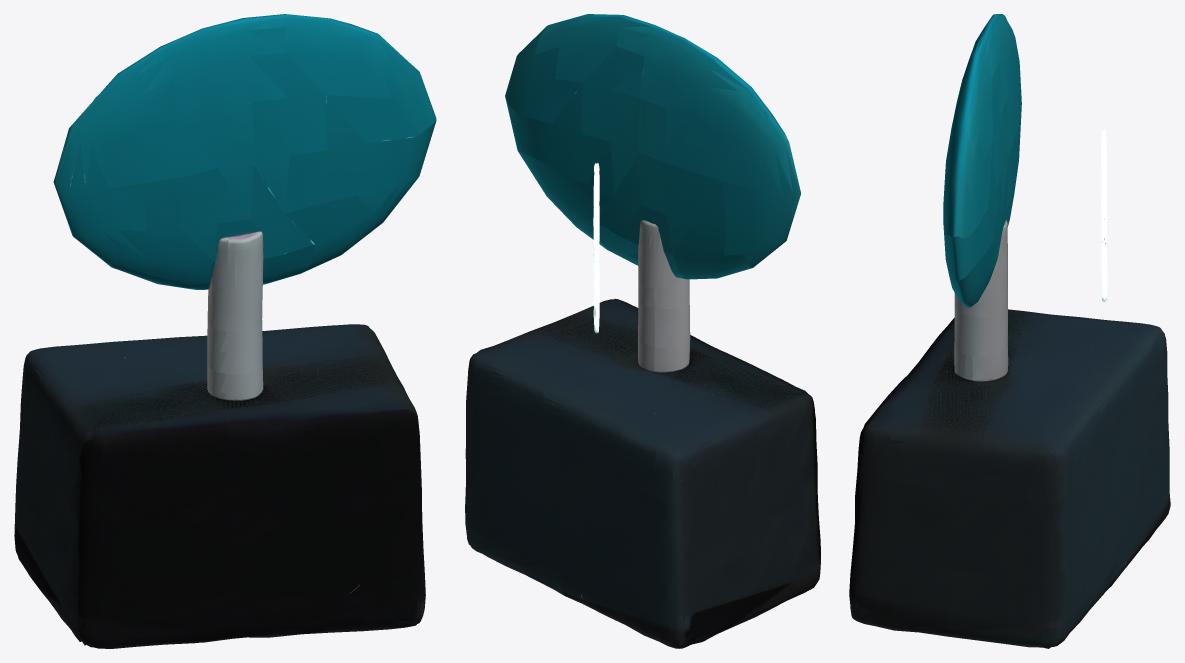
Rendered from radar-array.glb.
The picture shows the model from 3 angles, left to right: view 1: azimuth 30°, elevation 25°; view 2: azimuth 150°, elevation 25°; view 3: azimuth 270°, elevation 25°; orthographic projection. The views are drawn at different scales.
Size of the model in its own units: 0.6309 by 1 by 0.5371.
Materials: 1 (1 with a texture image).
